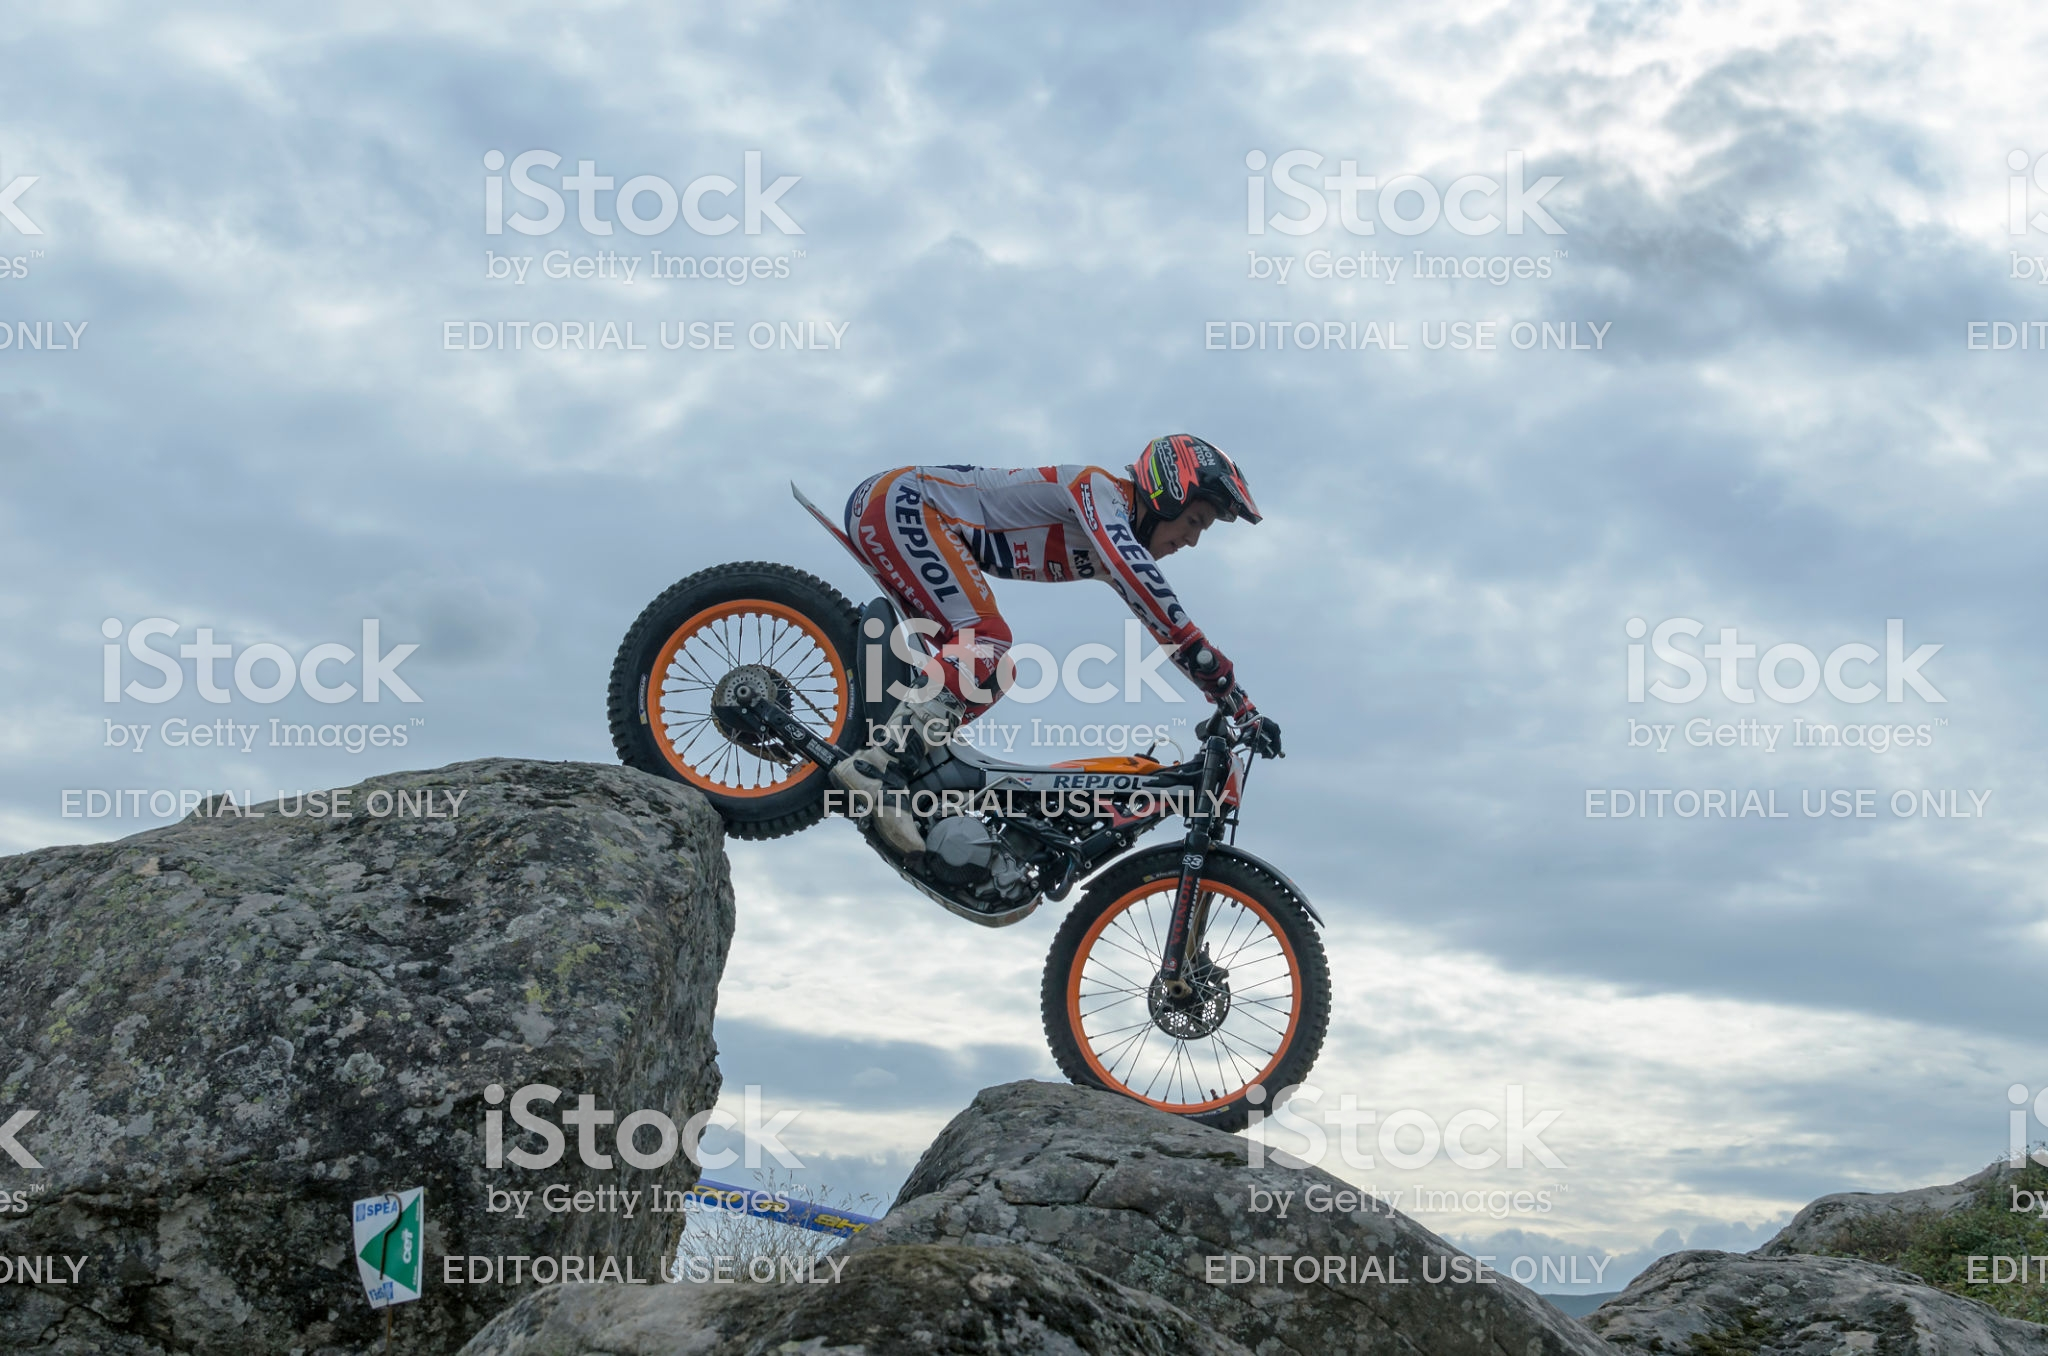helmet: (1119, 434, 1269, 537)
